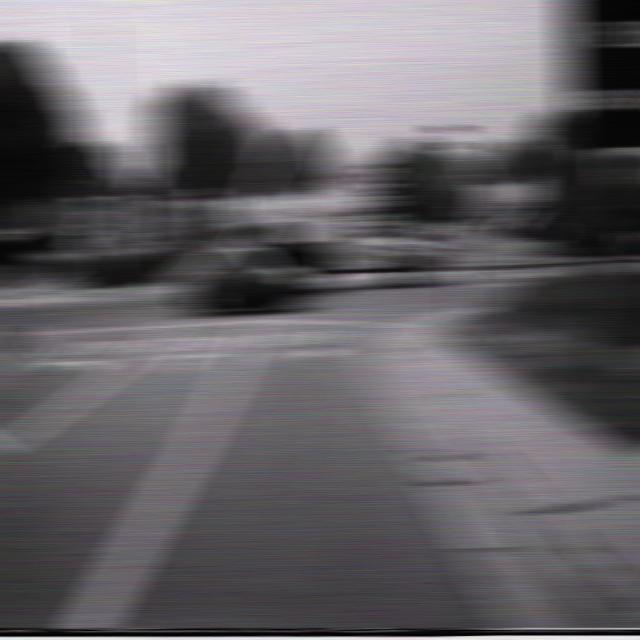stop_sign: (442, 157, 482, 207)
